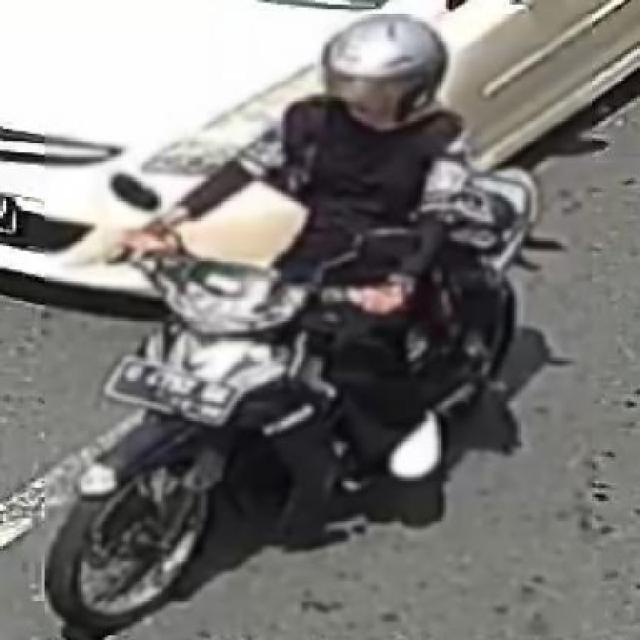helmet: (308, 18, 474, 146)
motorcycle: (37, 17, 569, 640)
